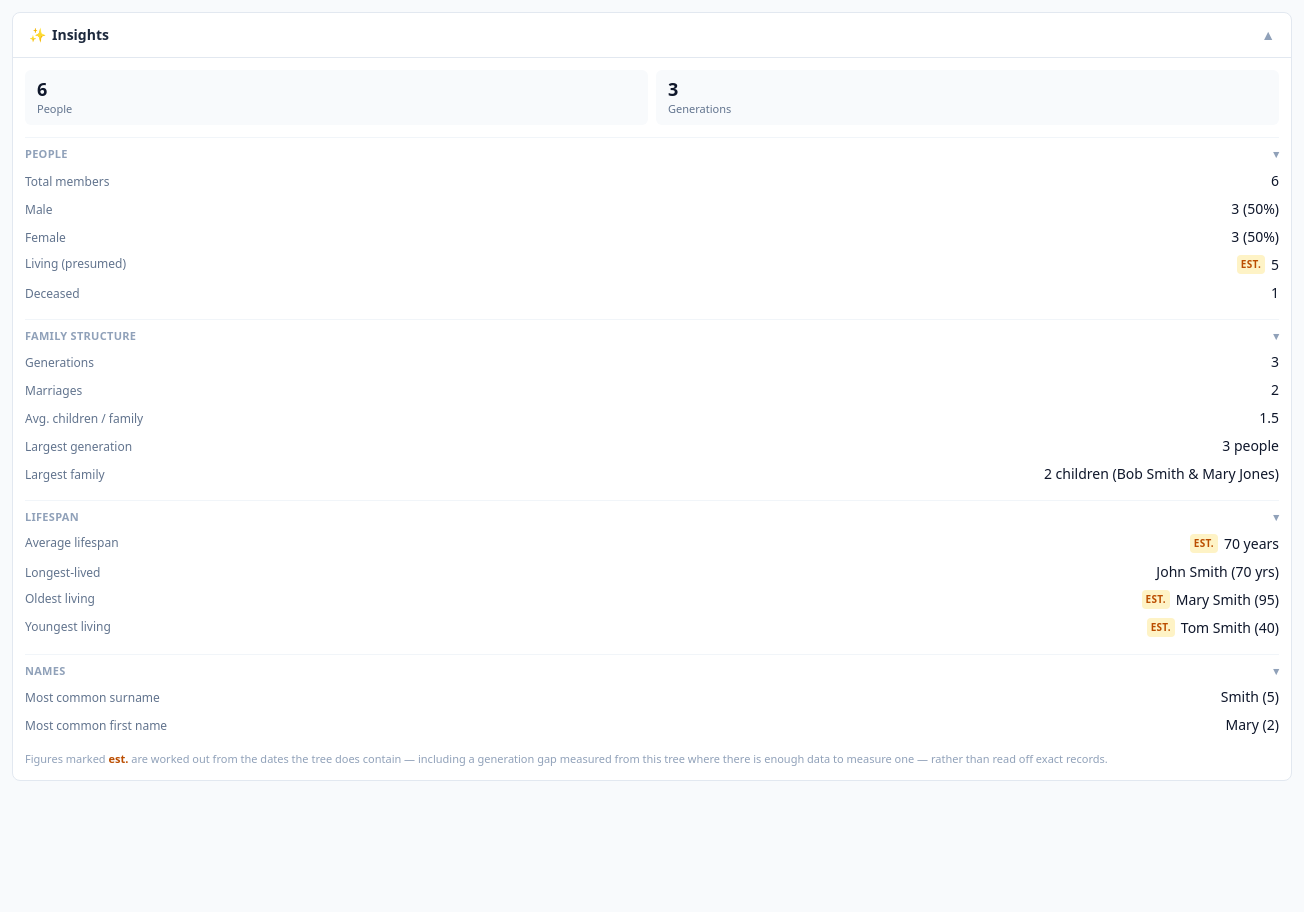
InsightsPanel › lets a section be folded away without hiding the rest (CP6.7)
The width and height of the screenshot is (1304, 912).
Expected: the text "Smith (5)" is shown, [1221,687,1279,707]
What coordinates should you click on to do the following:
click the button "Names ▾"
I would click on:
 (45, 670)
Its box is [25,662,1279,679].
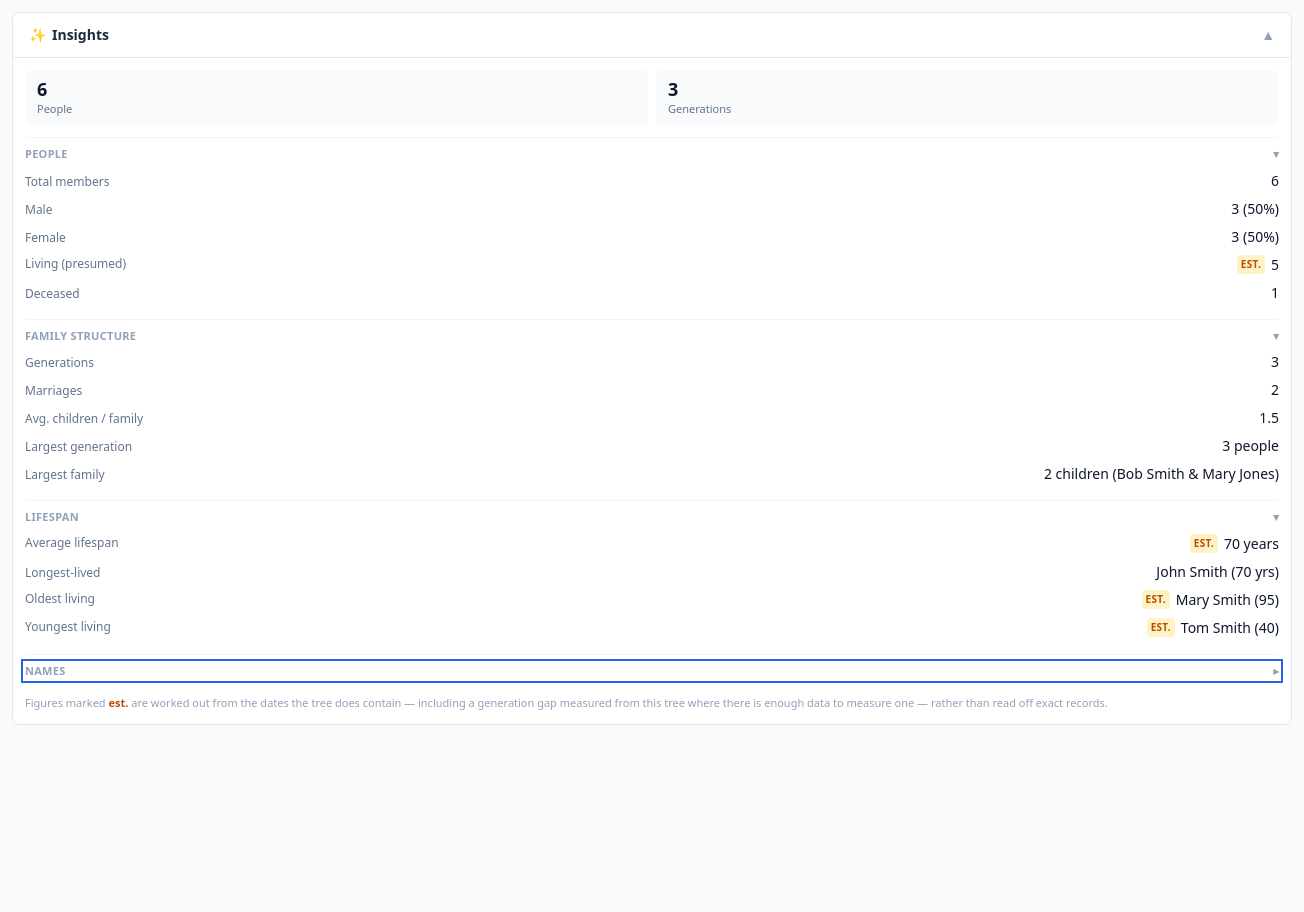
Expected: the text "Total members" is shown, [25,174,109,190]
Expected: the button "Names ▸" is collapsed, [25,662,1279,679]
Expected: the text "Smith (5)" is gone
